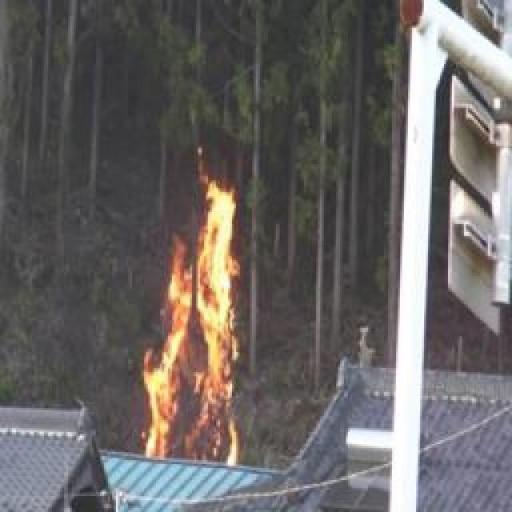smoke: (146, 170, 244, 468)
